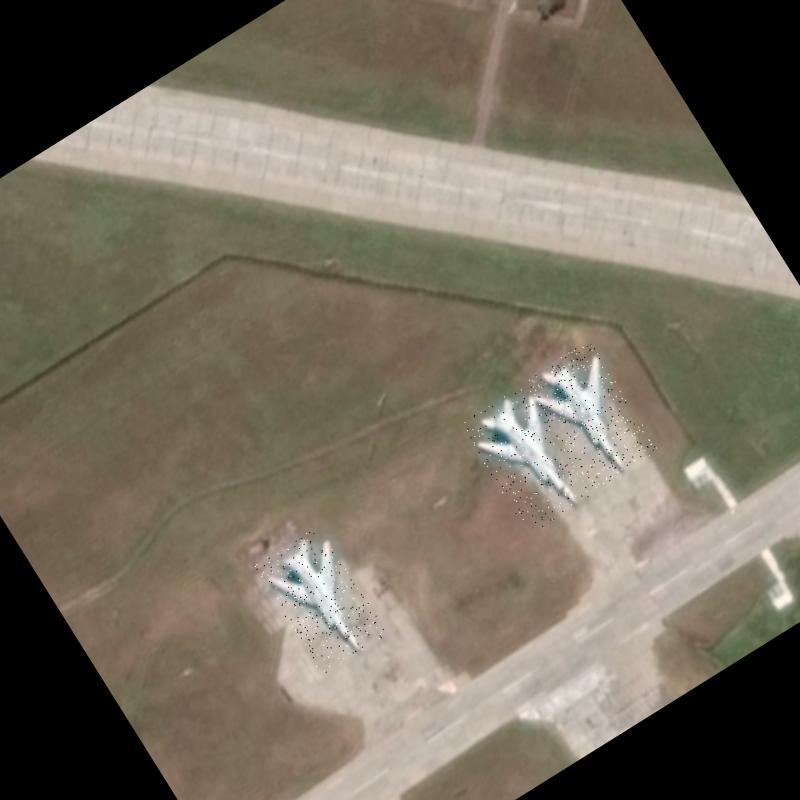A12: (520, 339, 659, 494), (460, 383, 596, 535), (254, 524, 388, 676)
